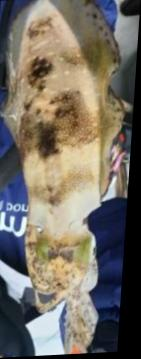Cephalopod: (2, 0, 126, 355)
